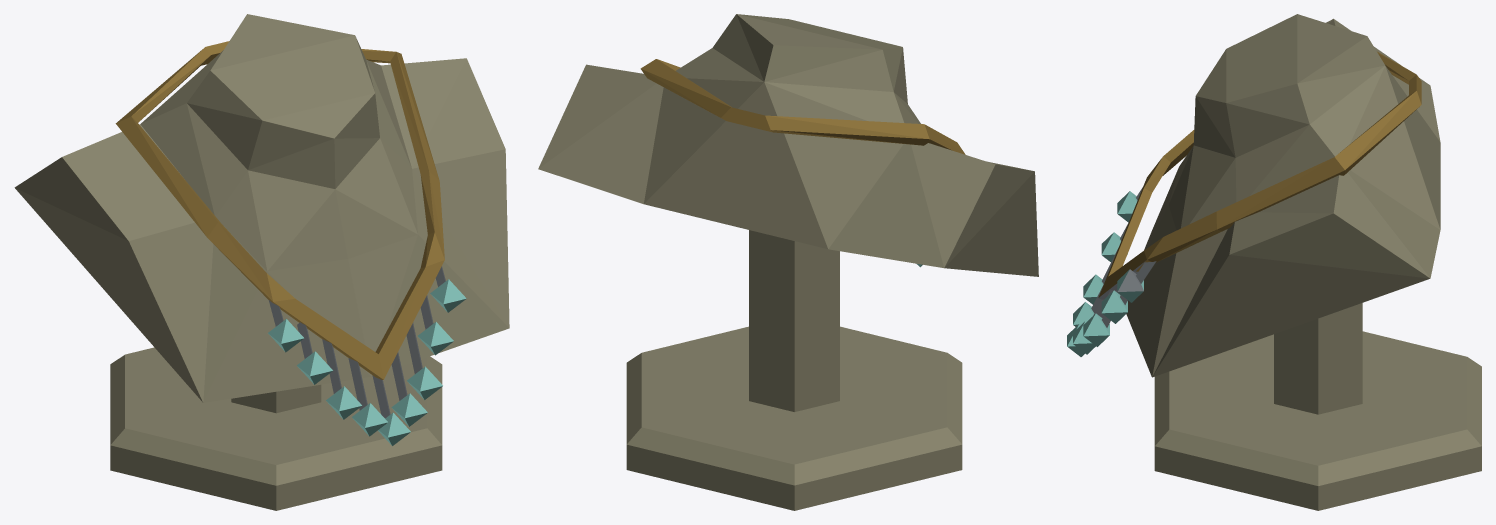
The model's file is WM_GemNecklace.fbx.
3 renders of one model, left to right at view 1: azimuth 30°, elevation 25°; view 2: azimuth 150°, elevation 25°; view 3: azimuth 270°, elevation 25°, orthographic. The views are drawn at different scales.
Visible parts, largest first — view 1: Cylinder_5, Symmetry_6; view 2: Cylinder_5, Symmetry_6; view 3: Cylinder_5, Symmetry_6.
Part boxes in pixels (x1=…): Cylinder_5: x1=14, y1=14, x2=509, y2=510; Symmetry_6: x1=115, y1=41, x2=466, y2=445; Cylinder_5: x1=538, y1=14, x2=1038, y2=510; Symmetry_6: x1=640, y1=59, x2=965, y2=267; Cylinder_5: x1=1126, y1=14, x2=1481, y2=510; Symmetry_6: x1=1067, y1=51, x2=1421, y2=356.
Bounding box in the file's own units: 4.06 × 3.82 × 3.66.
